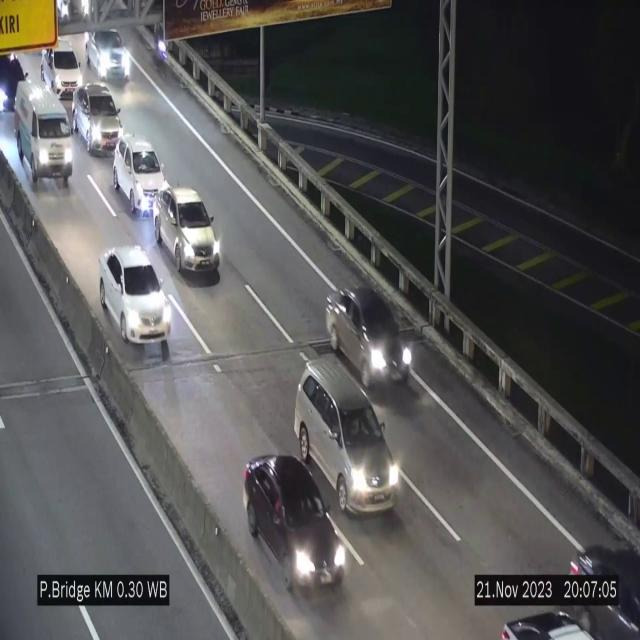Car: (292, 353, 402, 515), (245, 458, 346, 608), (325, 271, 413, 389), (6, 74, 76, 188), (568, 545, 640, 640), (100, 246, 170, 343), (153, 187, 221, 275), (113, 128, 173, 218), (73, 84, 124, 155), (38, 34, 89, 103), (86, 27, 134, 86), (496, 613, 598, 640), (0, 40, 30, 121)
Motorcycle: (153, 20, 169, 76)
